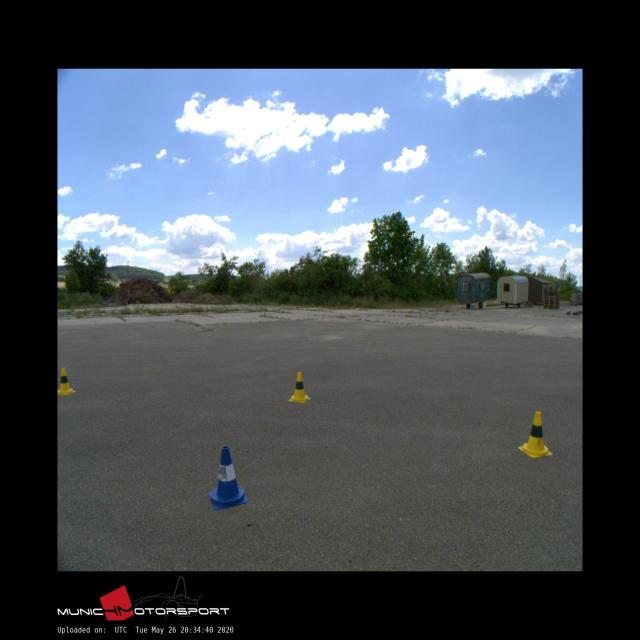blue_cone: (208, 446, 248, 508)
yellow_cone: (518, 411, 551, 456), (288, 372, 309, 401), (58, 367, 75, 395)
